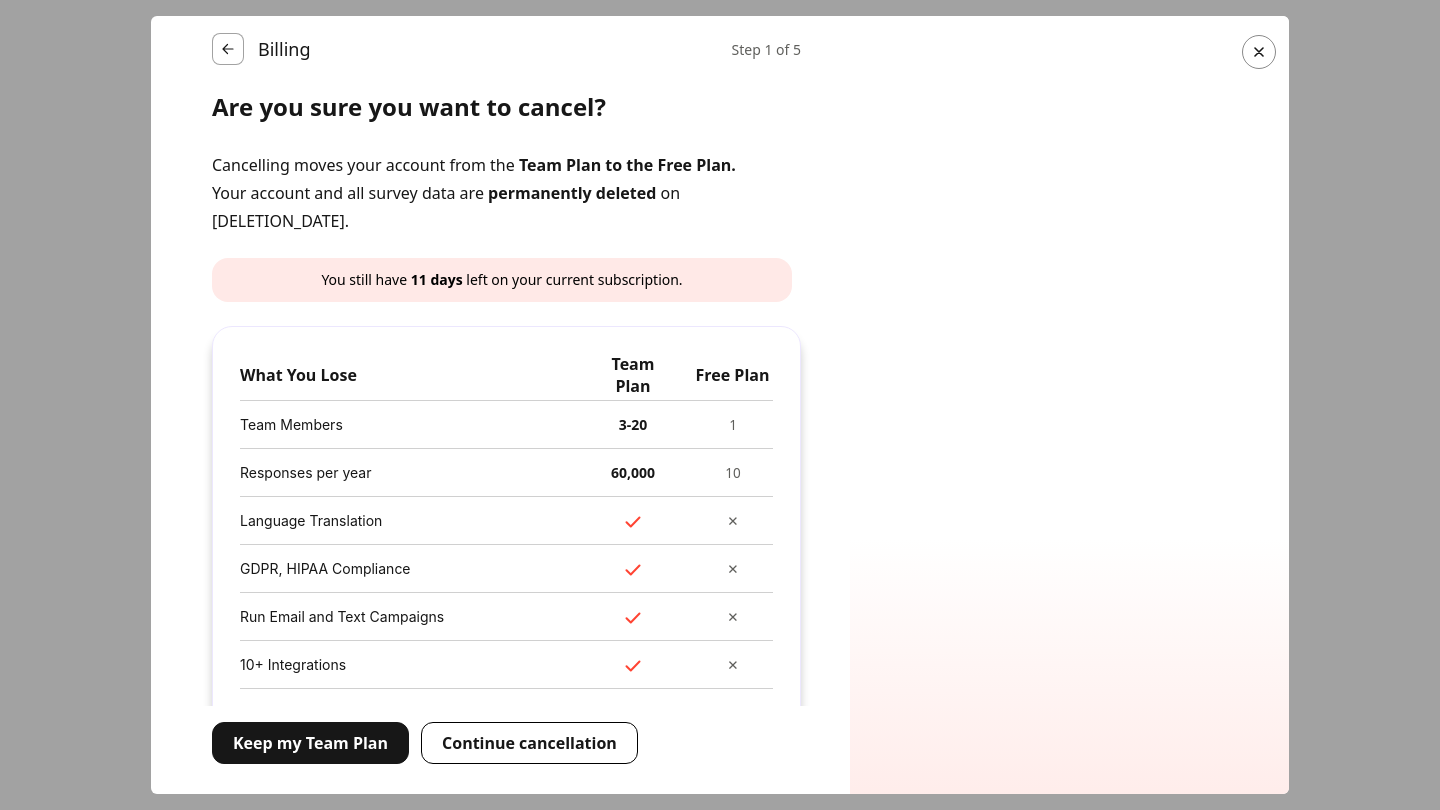
Scenario: CancellationModal › a failed API call keeps the plan and shows an error
What coordinates should you click on to do the following:
click the button "Continue cancellation"
I would click on:
 (529, 743)
Its box is [421, 722, 638, 764].
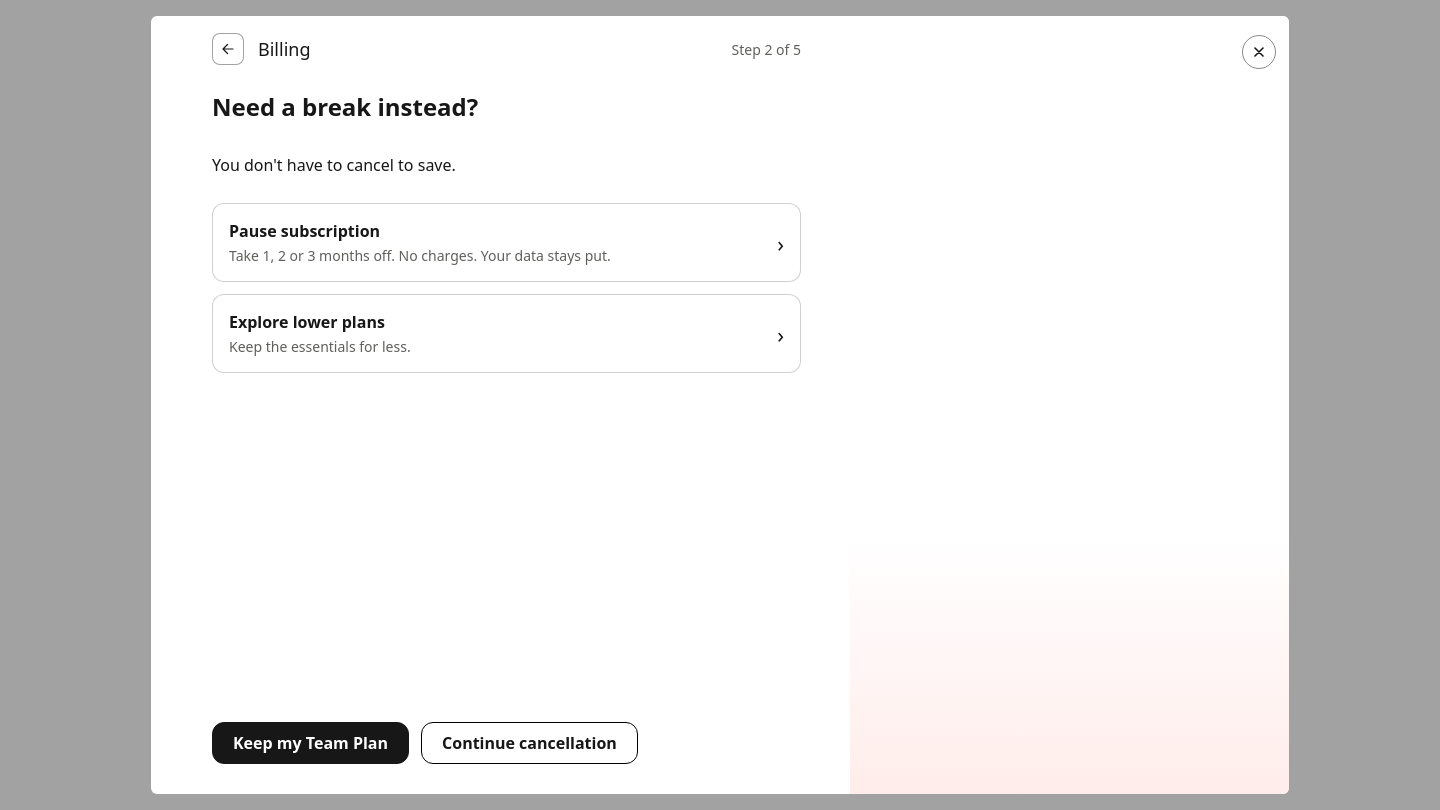
What coordinates should you click on to do the following:
click the button "Continue cancellation"
I would click on:
 (529, 743)
Its box is [421, 722, 638, 764].
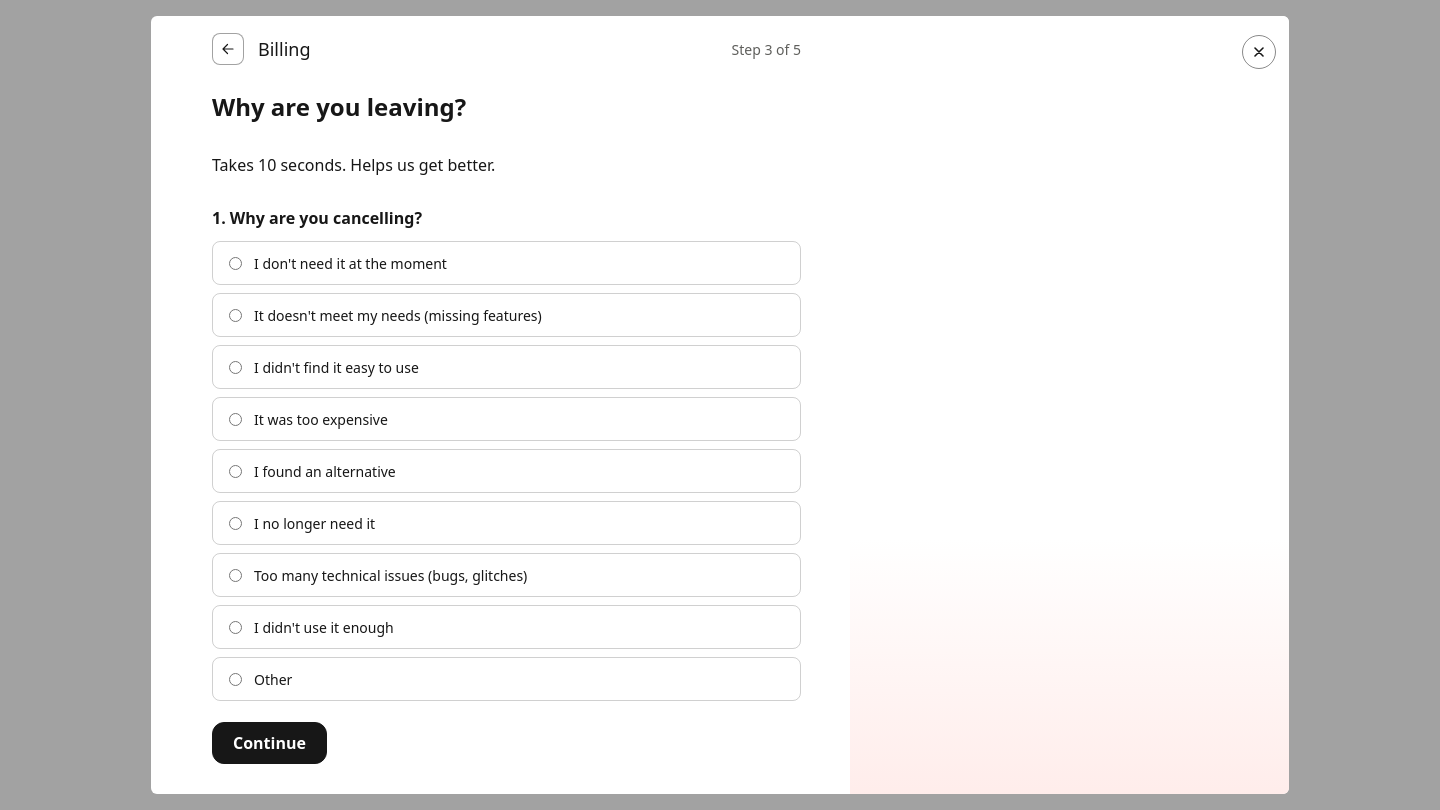
What coordinates should you click on to do the following:
click the radio button labelled "I don't need it at the moment"
I would click on:
 (236, 263)
Its box is [229, 256, 242, 270].
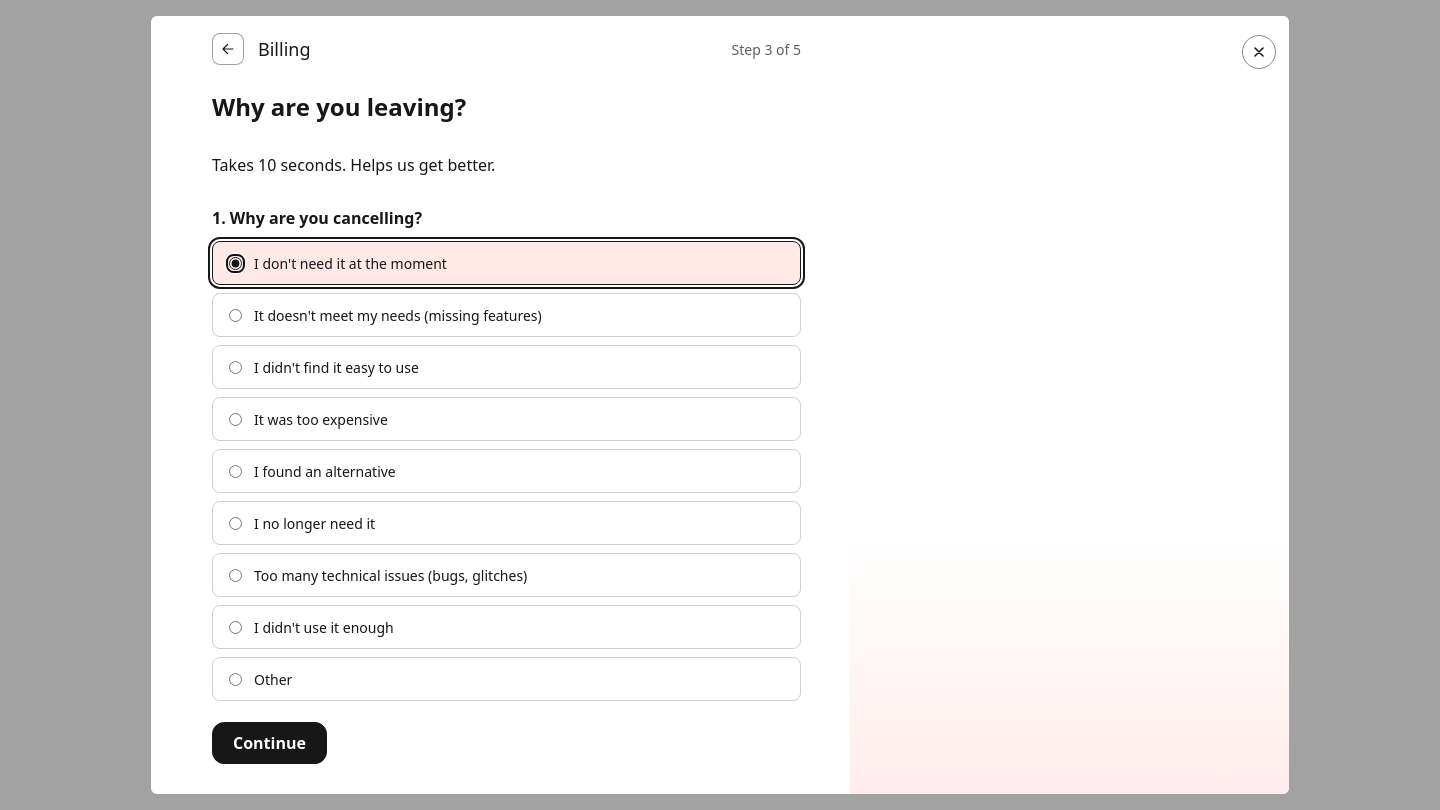
What coordinates should you click on to do the following:
click the button "Continue"
I would click on:
 (269, 743)
Its box is [212, 722, 327, 764].
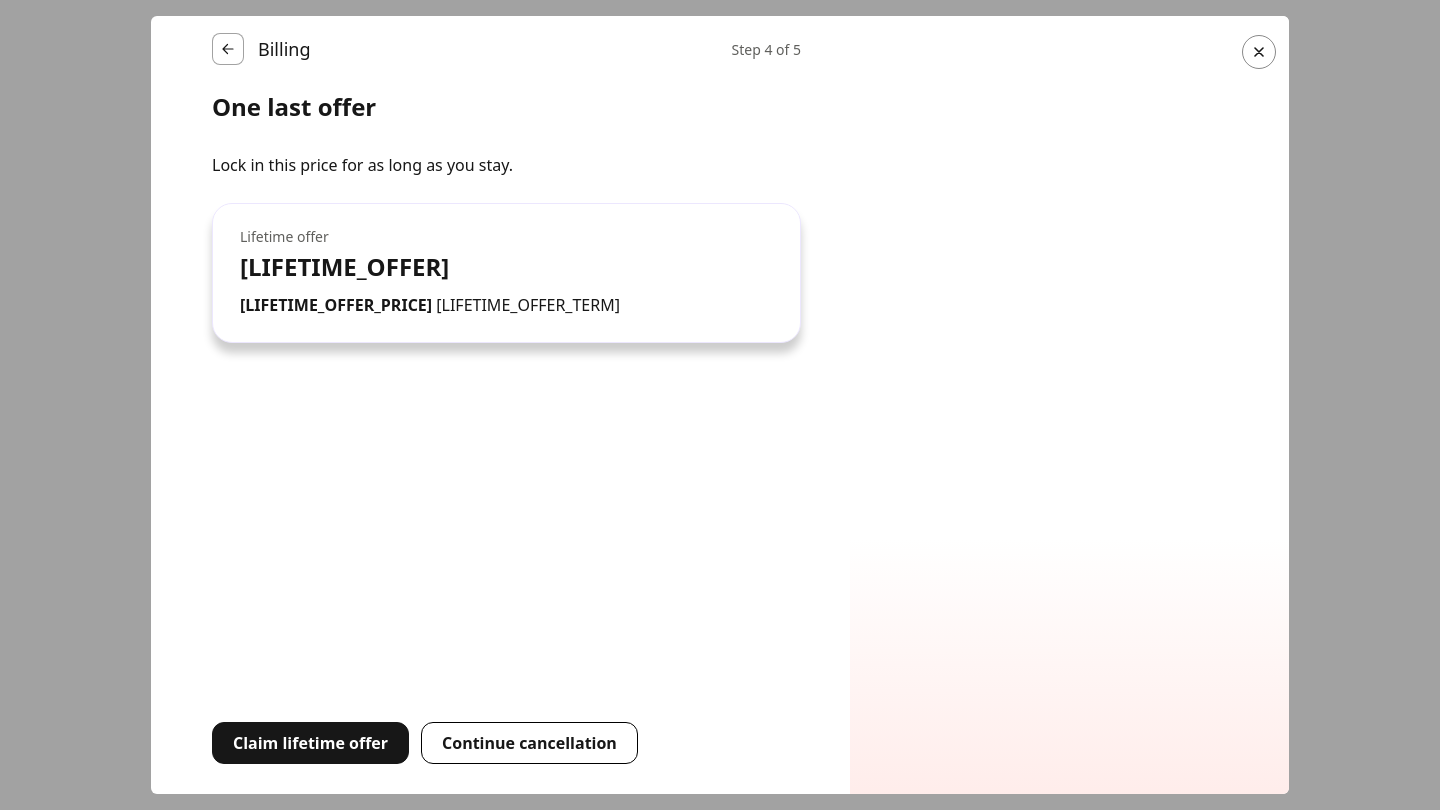
What coordinates should you click on to do the following:
click the button "Continue cancellation"
I would click on:
 (530, 743)
Its box is [421, 722, 638, 764].
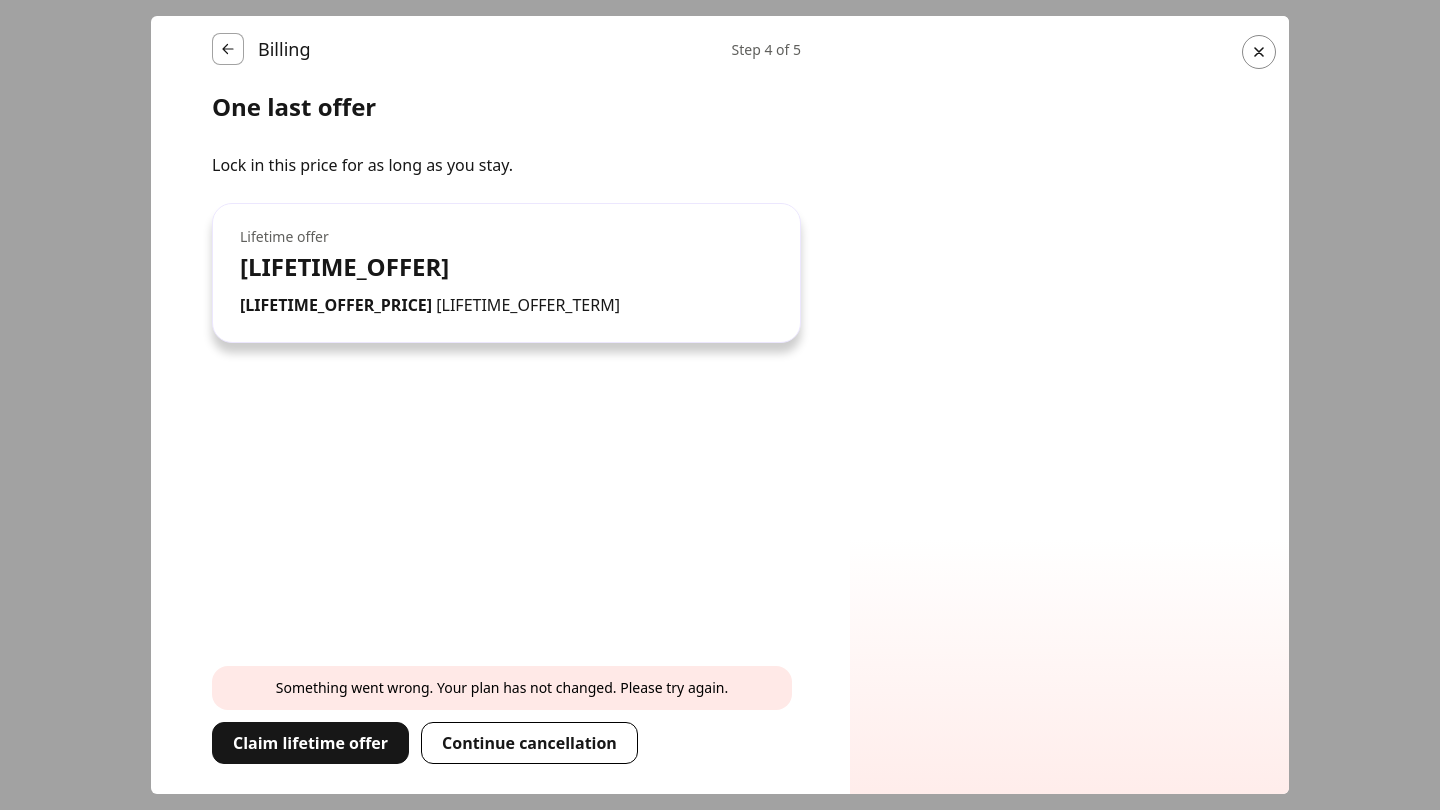
Now the text "Step 4 of 5" is shown, box [732, 40, 801, 58]
Now the message reads "Something went wrong. Your plan has not changed. Please try again.", box [276, 678, 728, 697]
